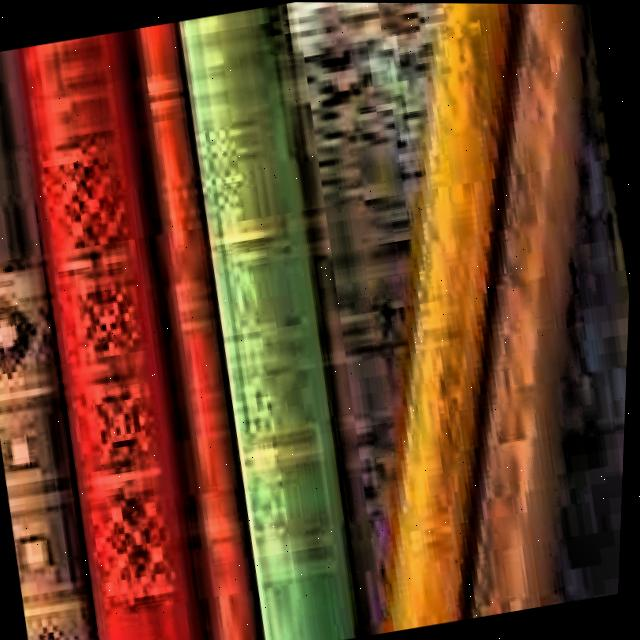paper: (250, 2, 617, 638), (333, 2, 640, 624), (155, 3, 393, 640), (0, 30, 231, 640), (102, 21, 284, 640), (0, 49, 124, 640)
